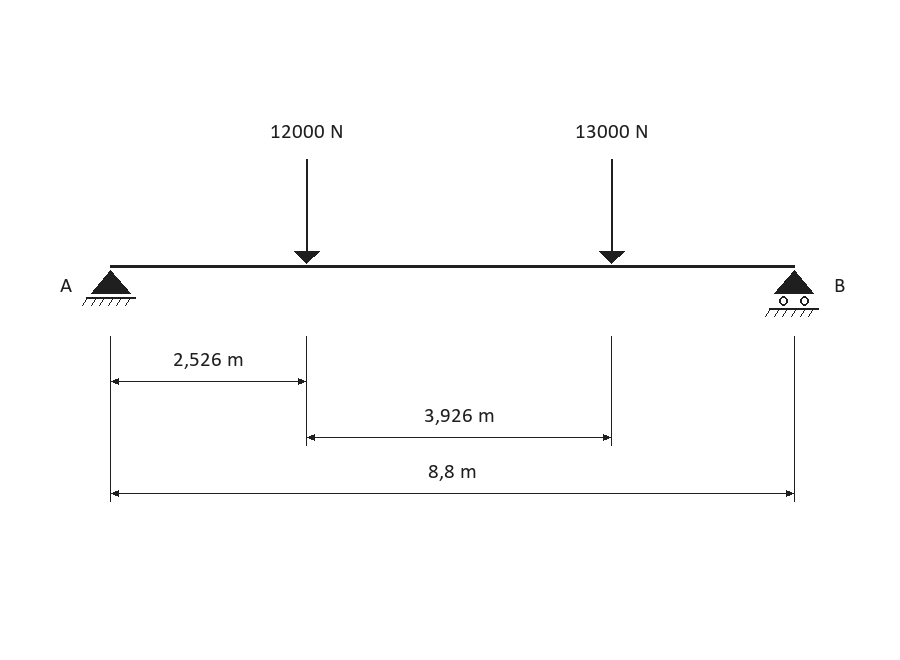pin_support: (82, 270, 136, 306)
point_load: (294, 159, 320, 264), (599, 159, 625, 264)
roller_support: (765, 270, 819, 317)
